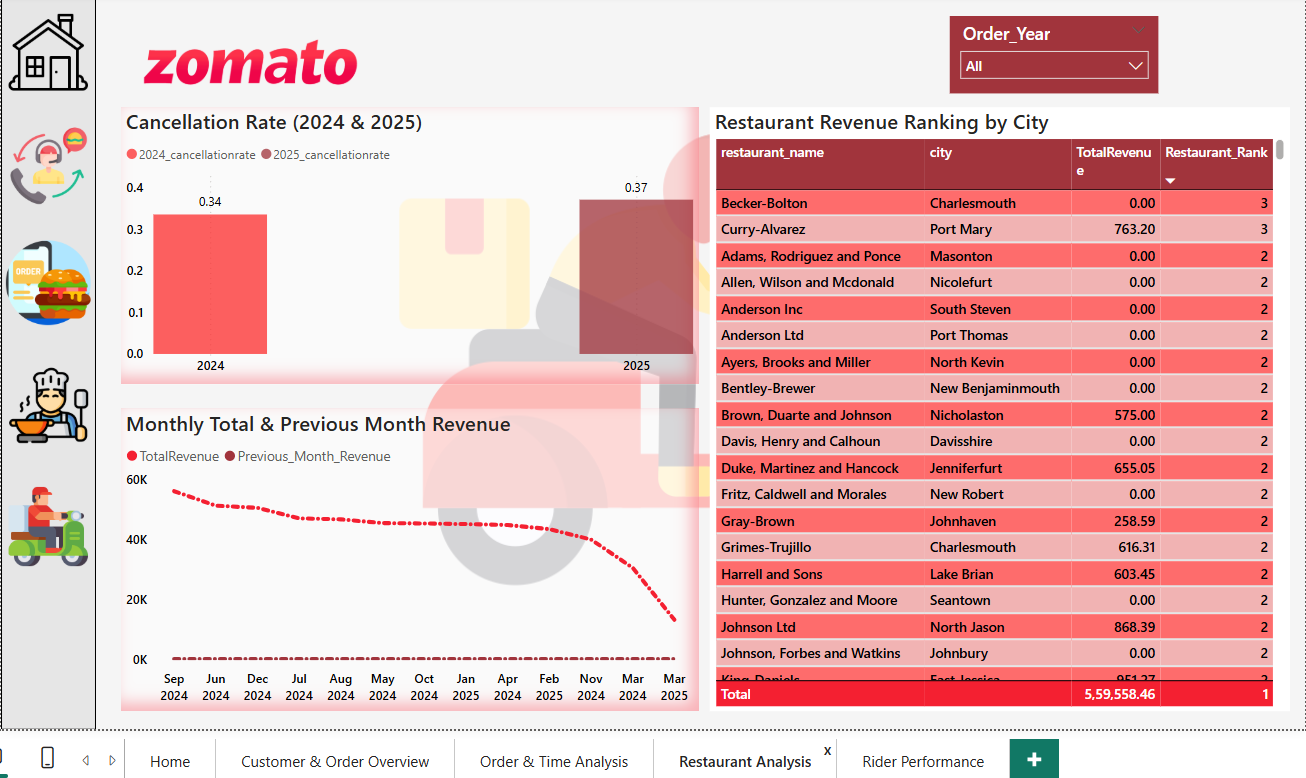

The dashboard page shown, as its layout file describes it:
{"tool":"powerbi","page":{"name":"Restaurant Analysis","canvas":[1280,720],"ordinal":3},"visuals":[{"type":"image","box":[58.9,0,371.8,130.1],"z":0},{"type":"shape","box":[0,1,93.3,719],"z":1000},{"type":"columnChart","title":"Cancellation Rate (2024 & 2025)","fields":{"Category":["ORDERS.Order_Year"],"Y":["ORDERS.2024_cancellationrate","ORDERS.2025_cancellationrate"]},"box":[117.8,109.2,566.9,272.4],"z":2000},{"type":"lineChart","title":"Monthly Total & Previous Month Revenue","fields":{"Category":["ORDERS.Order Month"],"Y":["ORDERS.TotalRevenue","ORDERS.Previous_Month_Revenue"]},"box":[117.8,404.9,566.9,296.9],"z":3000},{"type":"tableEx","title":"Restaurant Revenue Ranking by City","fields":{"Values":["RESTAURANTS.restaurant_name","RESTAURANTS.city","ORDERS.TotalRevenue","RESTAURANTS.Restaurant_Rank"]},"box":[695.7,109.2,569.3,592.6],"z":4000},{"type":"image","box":[0,1.2,93.3,110.4],"z":5000},{"type":"image","box":[0,471.2,93.3,99.4],"z":6000},{"type":"image","box":[0,231.9,93.3,99.4],"z":7000},{"type":"image","box":[0,121.5,93.3,90.8],"z":8000},{"type":"image","box":[0,358.3,93.3,87.1],"z":9000},{"type":"slicer","fields":{"Values":["ORDERS.Order_Year"]},"box":[931.3,19.6,204.9,76.1],"z":10000}]}

Visuals, with their boxes on the page's 1280x720 design canvas (x1, y1, x2, y2). These are canvas units, not pixel positions in the 1306x778 screenshot, which may show the page scaled, cropped or inside an application window:
image: select_region(59, 0, 431, 130)
shape: select_region(0, 1, 93, 720)
"Cancellation Rate (2024 & 2025)" columnChart: select_region(118, 109, 685, 382)
"Monthly Total & Previous Month Revenue" lineChart: select_region(118, 405, 685, 702)
"Restaurant Revenue Ranking by City" tableEx: select_region(696, 109, 1265, 702)
image: select_region(0, 1, 93, 112)
image: select_region(0, 471, 93, 571)
image: select_region(0, 232, 93, 331)
image: select_region(0, 122, 93, 212)
image: select_region(0, 358, 93, 445)
slicer - ORDERS.Order_Year: select_region(931, 20, 1136, 96)
